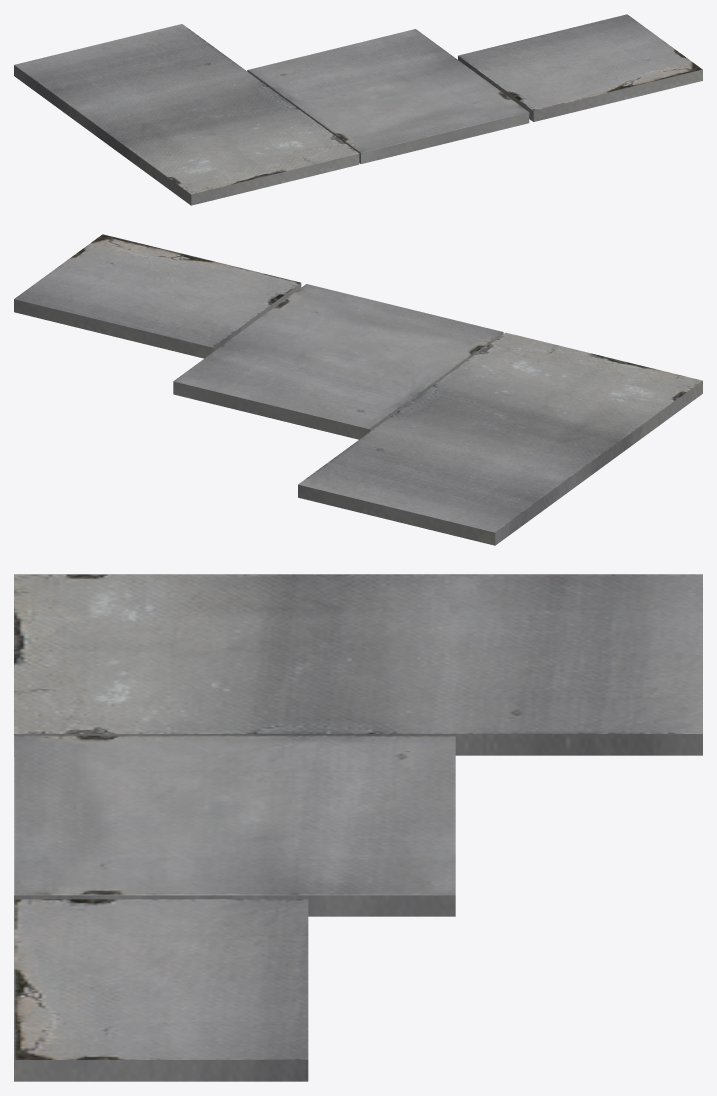
Rendered from plant-road-t.glb.
3 renders of one model, top to bottom at view 1: azimuth 30°, elevation 25°; view 2: azimuth 150°, elevation 25°; view 3: azimuth 270°, elevation 25°, orthographic. The views are drawn at different scales.
Parts seen in each view (by area): view 1: Object8935799; view 2: Object8935799; view 3: Object8935799.
Boxes of the visible parts, x1,y1,x2,y2 form: Object8935799: (14, 14, 702, 205); Object8935799: (14, 234, 702, 545); Object8935799: (14, 574, 702, 1081).
Bounding box in the file's own units: 8.28 × 0.1721 × 4.97.
Materials: 1 (1 with a texture image).
